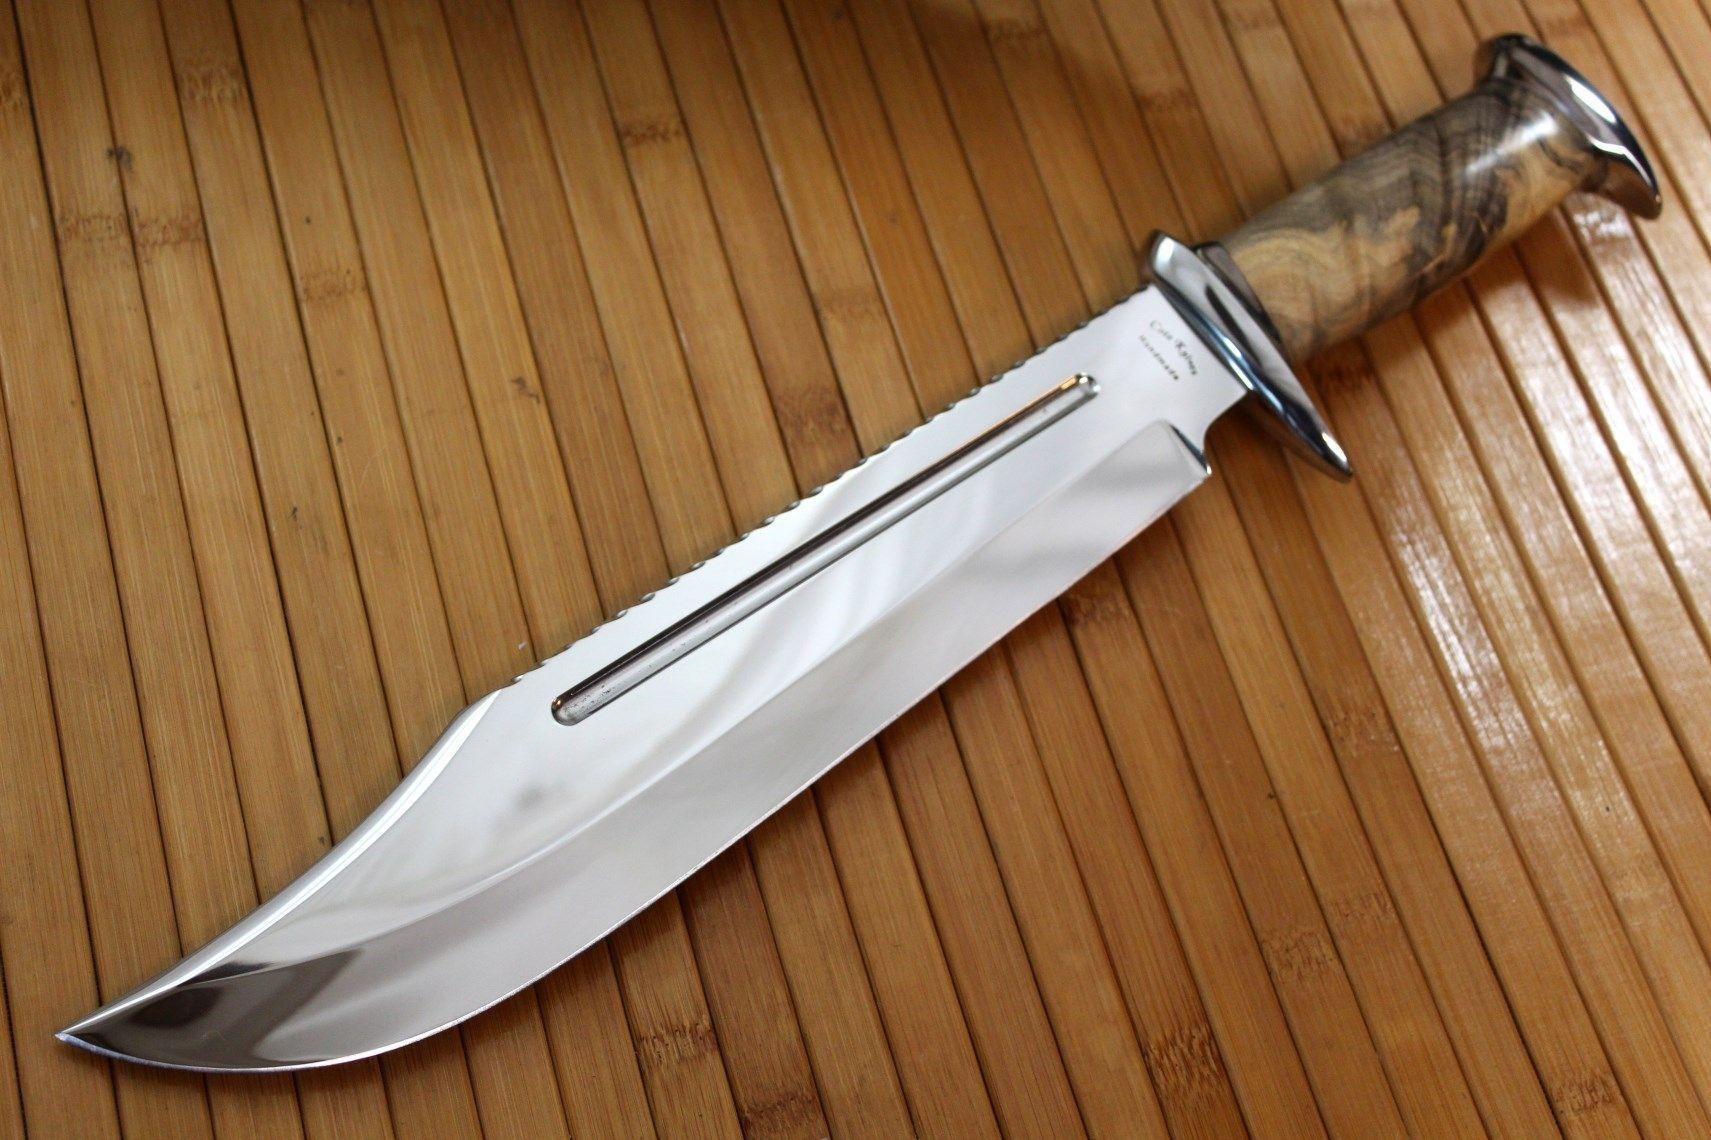faca: (59, 36, 1661, 1071), (603, 730, 613, 740)
